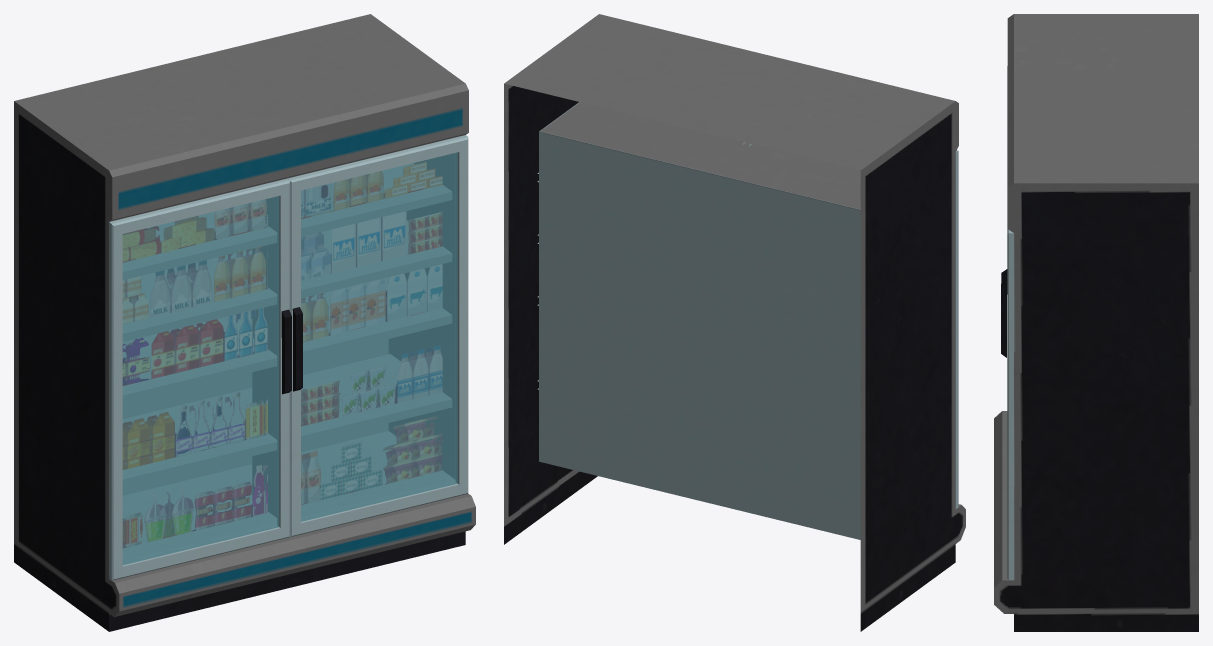
File: RefrigeratorDubleDoor.fbx
3 renders of one model, left to right at view 1: azimuth 30°, elevation 25°; view 2: azimuth 150°, elevation 25°; view 3: azimuth 270°, elevation 25°, orthographic. The views are drawn at different scales.
Visible parts, largest first — view 1: RefrigeratorDubleDoor; view 2: RefrigeratorDubleDoor; view 3: RefrigeratorDubleDoor.
Boxes of the visible parts, x1=… form: RefrigeratorDubleDoor: x1=14, y1=14, x2=475, y2=631; RefrigeratorDubleDoor: x1=504, y1=14, x2=965, y2=631; RefrigeratorDubleDoor: x1=994, y1=14, x2=1198, y2=631.
Size of the model in its own units: 197 by 243 by 100.
